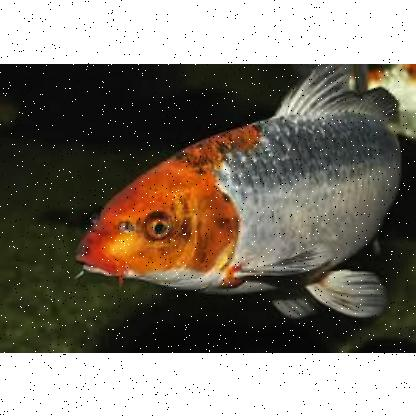ikan-mas: (80, 78, 402, 310)
